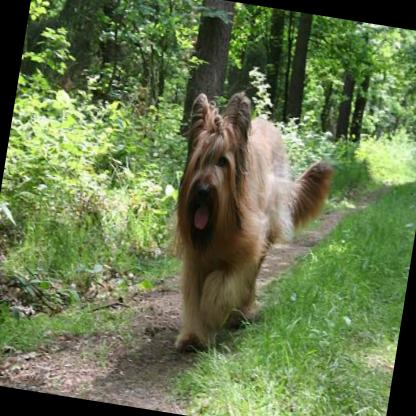briard: (153, 82, 343, 368)
